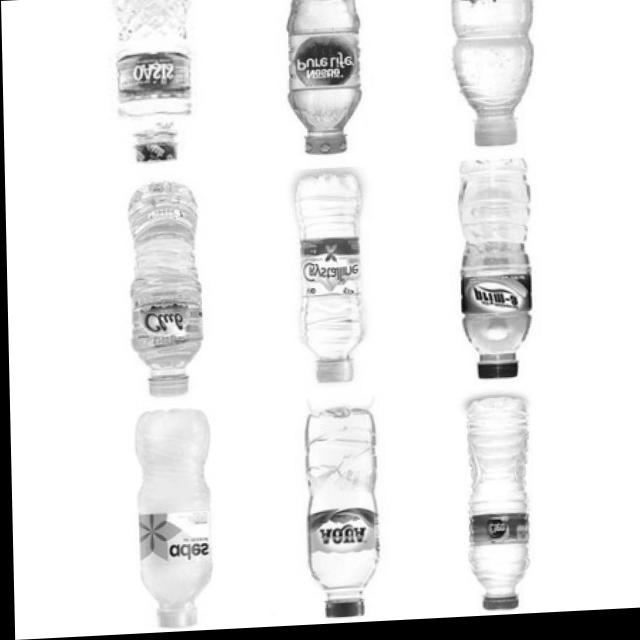bottle: (113, 179, 206, 402), (445, 394, 537, 619), (451, 163, 542, 388), (127, 406, 215, 634), (287, 167, 370, 392), (293, 411, 376, 625), (110, 0, 203, 167), (443, 0, 542, 155), (280, 0, 365, 164)
